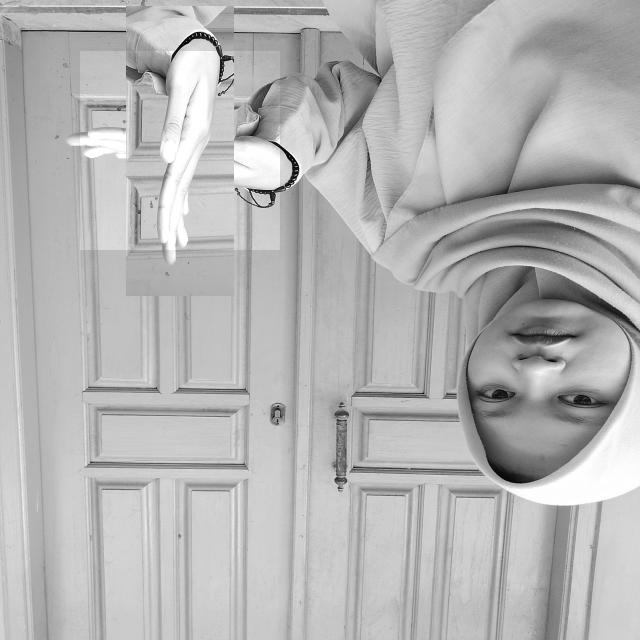adik: (80, 51, 280, 250)
